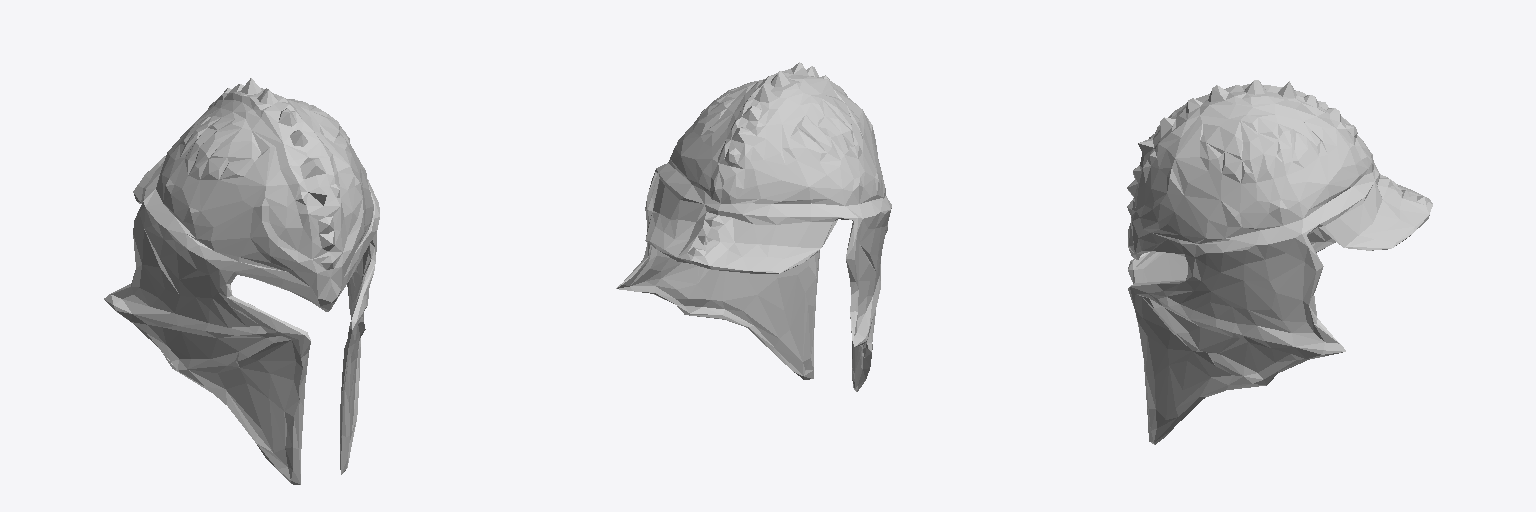
Rendered from inquisitilp.obj.
The picture shows the model from 3 angles: view 1: azimuth 30°, elevation 25°; view 2: azimuth 150°, elevation 25°; view 3: azimuth 270°, elevation 25°; orthographic projection.
Visible parts, largest first — view 1: inquisti; view 2: inquisti; view 3: inquisti.
Part boxes in pixels (x1,y1,x2,y2): inquisti: (104, 78, 379, 484); inquisti: (616, 62, 891, 391); inquisti: (1127, 80, 1432, 444).
Bounding box in the file's own units: 4.14 × 5.82 × 4.59.